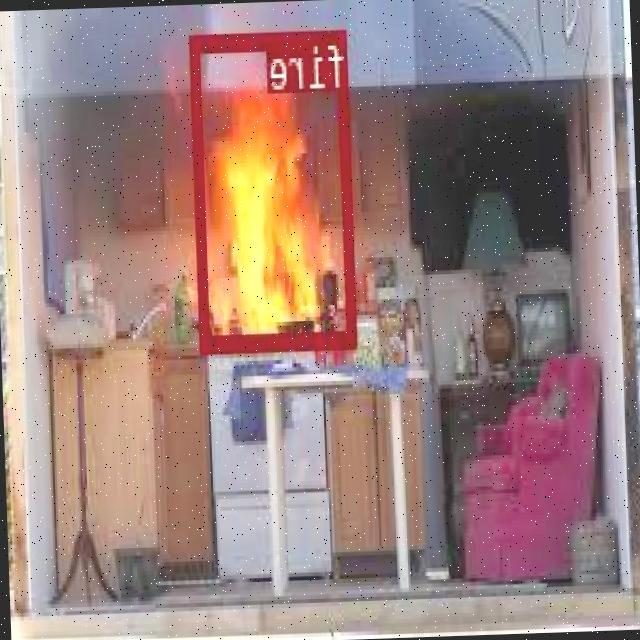fire: (192, 28, 358, 348)
